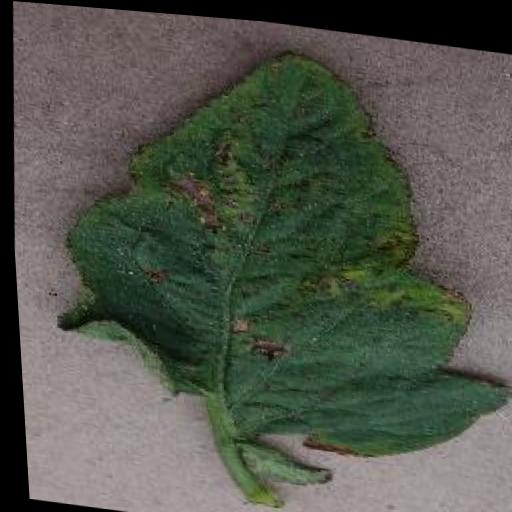Bacterial Spot: (15, 5, 512, 512)
